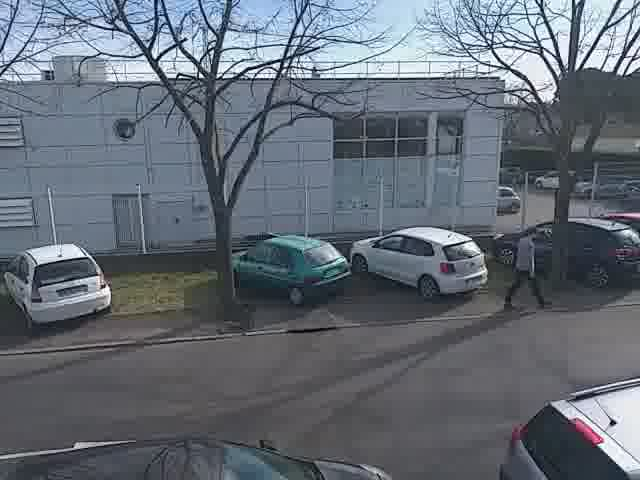persona: (505, 218, 552, 310)
